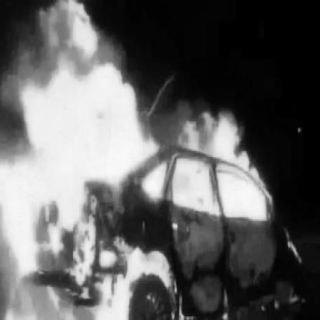Fire: (6, 25, 266, 317)
